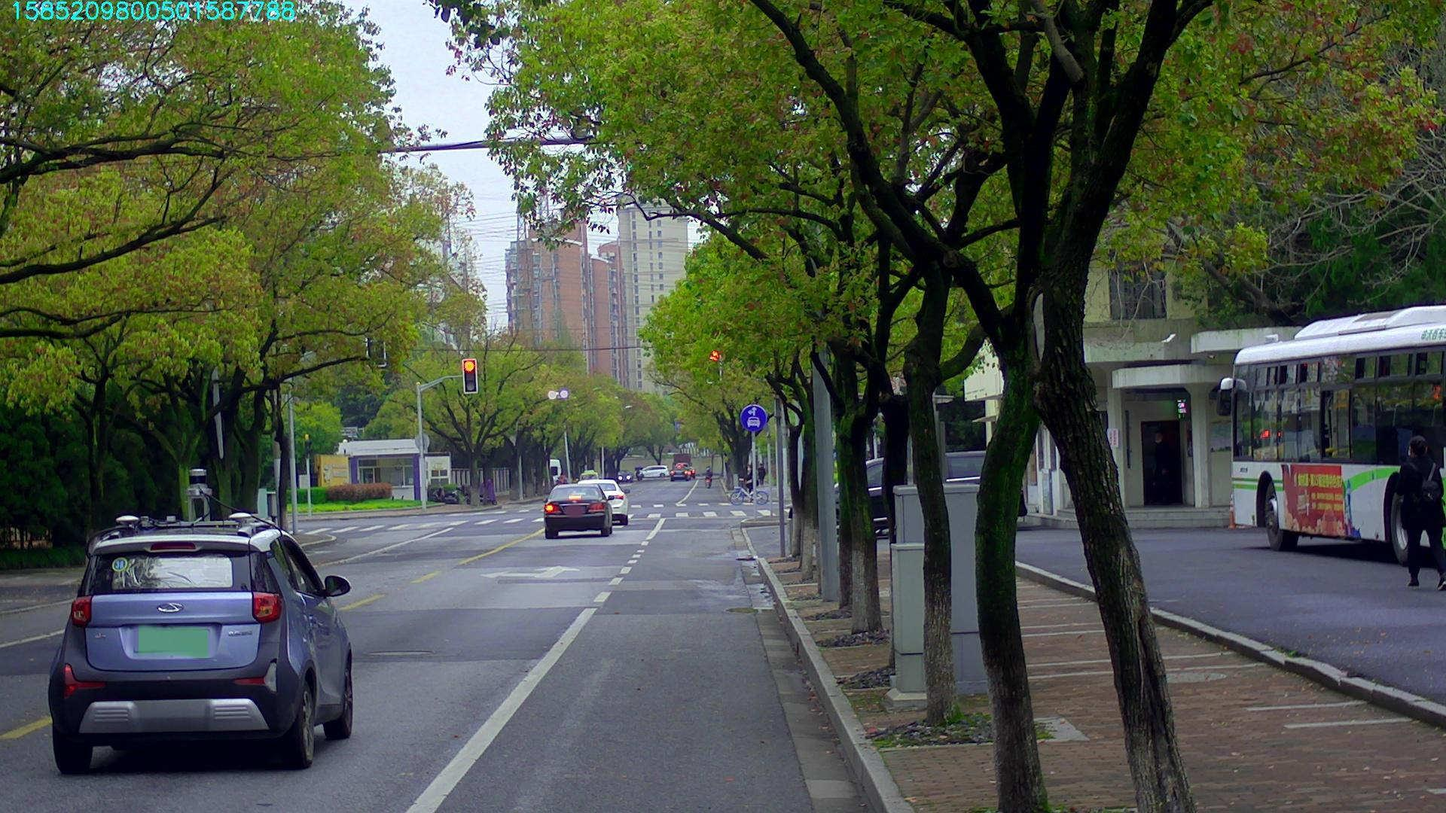red: (706, 348, 721, 382), (462, 359, 476, 392)
